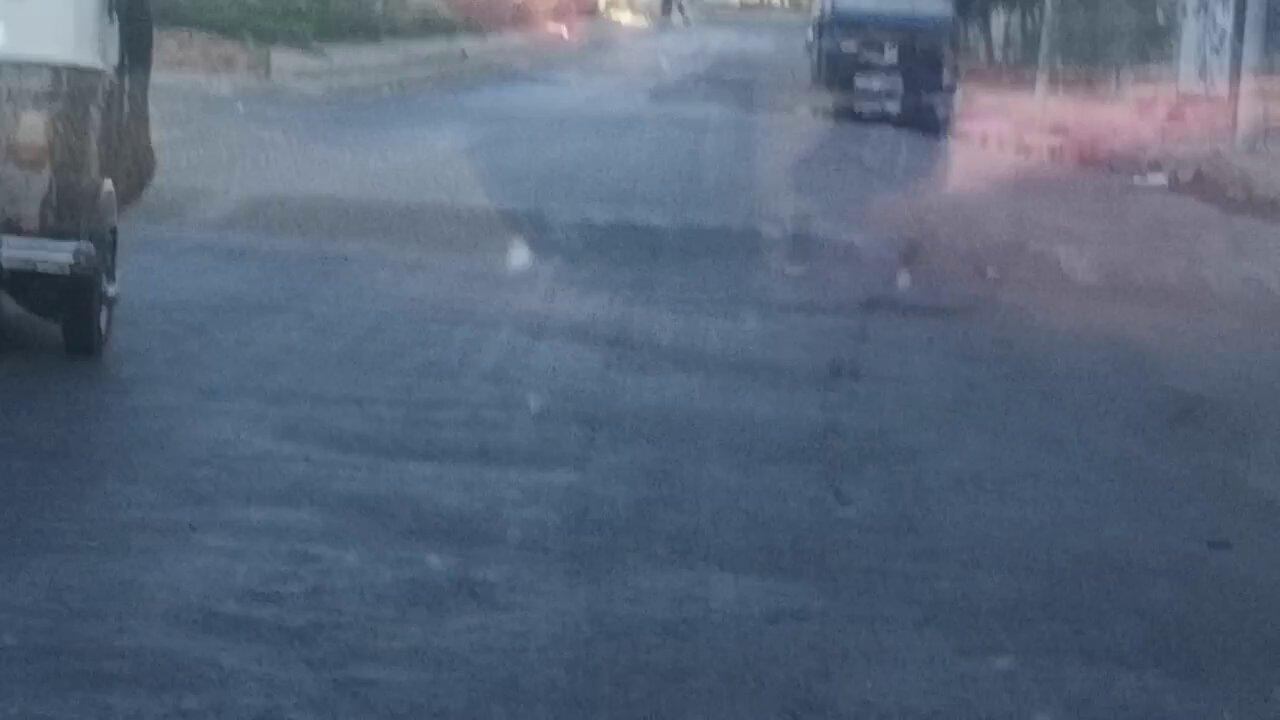Bump: (170, 173, 1280, 332)
